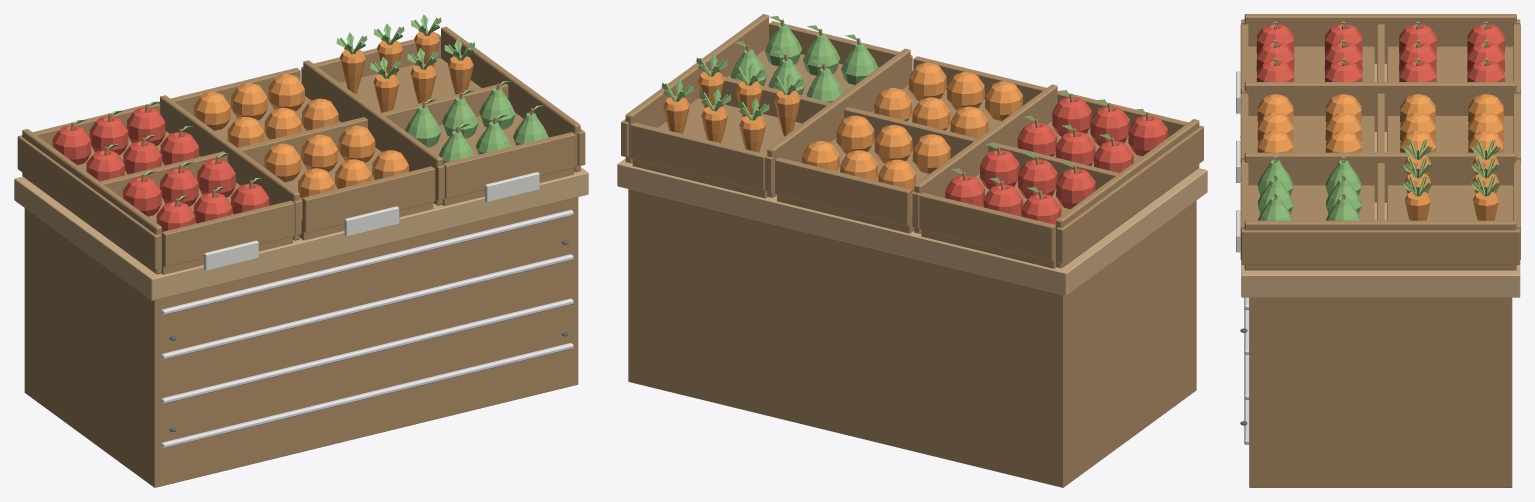
The model's file is Produce_Display.fbx.
The picture shows the model from 3 angles, left to right: view 1: azimuth 30°, elevation 25°; view 2: azimuth 150°, elevation 25°; view 3: azimuth 270°, elevation 25°; orthographic projection. The views are drawn at different scales.
Visible parts, largest first — view 1: Produce_Display__LPCXFER, Produce_Display_Fruit_10_red__LPCXFER, Produce_Display_Fruit_12_red__LPCXFER, Produce_Display_Fruit_04_red__LPCXFER, Produce_Display_Fruit_06_red__LPCXFER, Produce_Display_Fruit_08_red__LPCXFER, Produce_Display_Fruit_02_red__LPCXFER, Produce_Display_Fruit_18_orange__LPCXFER, Produce_Display_Fruit_16_orange__LPCXFER, Produce_Display_Fruit_22_orange__LPCXFER, Produce_Display_Carrot_02__LPCXFER, Produce_Display_Fruit_24_orange__LPCXFER (+25 smaller); view 2: Produce_Display__LPCXFER, Produce_Display_Fruit_05_red__LPCXFER, Produce_Display_Fruit_11_red__LPCXFER, Produce_Display_Fruit_09_red__LPCXFER, Produce_Display_Fruit_03_red__LPCXFER, Produce_Display_Fruit_01_red__LPCXFER, Produce_Display_Fruit_07_red__LPCXFER, Produce_Display_Fruit_23_orange__LPCXFER, Produce_Display_Fruit_21_orange__LPCXFER, Produce_Display_Fruit_17_orange__LPCXFER, Produce_Display_Fruit_15_orange__LPCXFER, Produce_Display_Carrot_01__LPCXFER (+25 smaller); view 3: Produce_Display__LPCXFER, Produce_Display_Carrot_05__LPCXFER, Produce_Display_Carrot_06__LPCXFER, Produce_Display_Fruit_02_red__LPCXFER, Produce_Display_Fruit_03_red__LPCXFER, Produce_Display_Fruit_04_red__LPCXFER, Produce_Display_Fruit_01_red__LPCXFER, Produce_Display_Fruit_07_red__LPCXFER, Produce_Display_Fruit_09_red__LPCXFER, Produce_Display_Fruit_08_red__LPCXFER, Produce_Display_Fruit_10_red__LPCXFER, Produce_Display_Fruit_12_red__LPCXFER (+25 smaller).
Part boxes in pixels (x1,y1,x2,y2): Produce_Display__LPCXFER: [14, 26, 588, 487]; Produce_Display_Fruit_10_red__LPCXFER: [89, 110, 128, 154]; Produce_Display_Fruit_12_red__LPCXFER: [126, 101, 165, 145]; Produce_Display_Fruit_04_red__LPCXFER: [160, 162, 198, 206]; Produce_Display_Fruit_06_red__LPCXFER: [197, 153, 235, 197]; Produce_Display_Fruit_08_red__LPCXFER: [52, 119, 91, 164]; Produce_Display_Fruit_02_red__LPCXFER: [123, 171, 161, 216]; Produce_Display_Fruit_18_orange__LPCXFER: [338, 125, 375, 162]; Produce_Display_Fruit_16_orange__LPCXFER: [301, 134, 338, 171]; Produce_Display_Fruit_22_orange__LPCXFER: [231, 83, 267, 120]; Produce_Display_Carrot_02__LPCXFER: [336, 32, 367, 93]; Produce_Display_Fruit_24_orange__LPCXFER: [268, 74, 304, 111]; Produce_Display__LPCXFER: [617, 14, 1207, 487]; Produce_Display_Fruit_05_red__LPCXFER: [1052, 90, 1091, 136]; Produce_Display_Fruit_11_red__LPCXFER: [979, 143, 1019, 189]; Produce_Display_Fruit_09_red__LPCXFER: [1018, 152, 1057, 198]; Produce_Display_Fruit_03_red__LPCXFER: [1090, 99, 1129, 145]; Produce_Display_Fruit_01_red__LPCXFER: [1128, 108, 1168, 156]; Produce_Display_Fruit_07_red__LPCXFER: [1056, 161, 1095, 208]; Produce_Display_Fruit_23_orange__LPCXFER: [836, 115, 874, 153]; Produce_Display_Fruit_21_orange__LPCXFER: [874, 125, 912, 163]; Produce_Display_Fruit_17_orange__LPCXFER: [908, 62, 946, 100]; Produce_Display_Fruit_15_orange__LPCXFER: [947, 72, 984, 110]; Produce_Display_Carrot_01__LPCXFER: [772, 73, 803, 136]; Produce_Display__LPCXFER: [1236, 14, 1520, 487]; Produce_Display_Carrot_05__LPCXFER: [1403, 176, 1432, 220]; Produce_Display_Carrot_06__LPCXFER: [1471, 176, 1500, 220]; Produce_Display_Fruit_02_red__LPCXFER: [1324, 21, 1362, 53]; Produce_Display_Fruit_03_red__LPCXFER: [1256, 39, 1294, 71]; Produce_Display_Fruit_04_red__LPCXFER: [1324, 39, 1362, 71]; Produce_Display_Fruit_01_red__LPCXFER: [1256, 21, 1294, 53]; Produce_Display_Fruit_07_red__LPCXFER: [1399, 21, 1436, 53]; Produce_Display_Fruit_09_red__LPCXFER: [1399, 39, 1436, 71]; Produce_Display_Fruit_08_red__LPCXFER: [1467, 21, 1504, 53]; Produce_Display_Fruit_10_red__LPCXFER: [1467, 39, 1504, 71]; Produce_Display_Fruit_12_red__LPCXFER: [1467, 58, 1504, 81].
Bounding box in the file's own units: 165 × 104 × 92.
